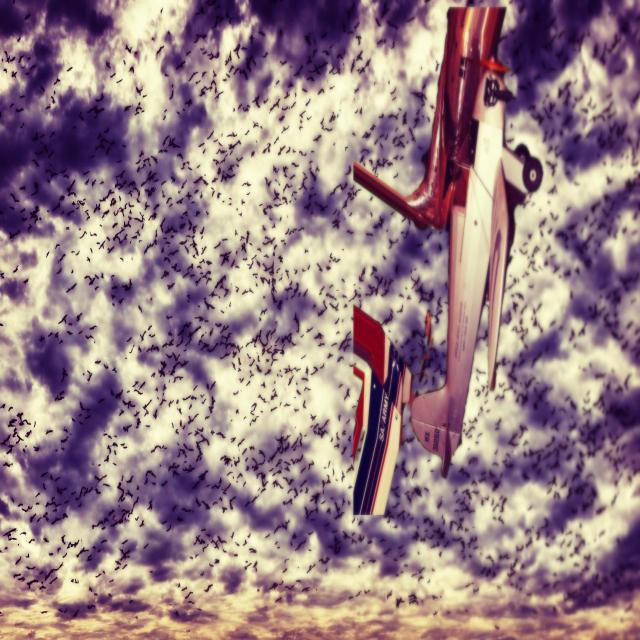airplane: (353, 3, 543, 517)
